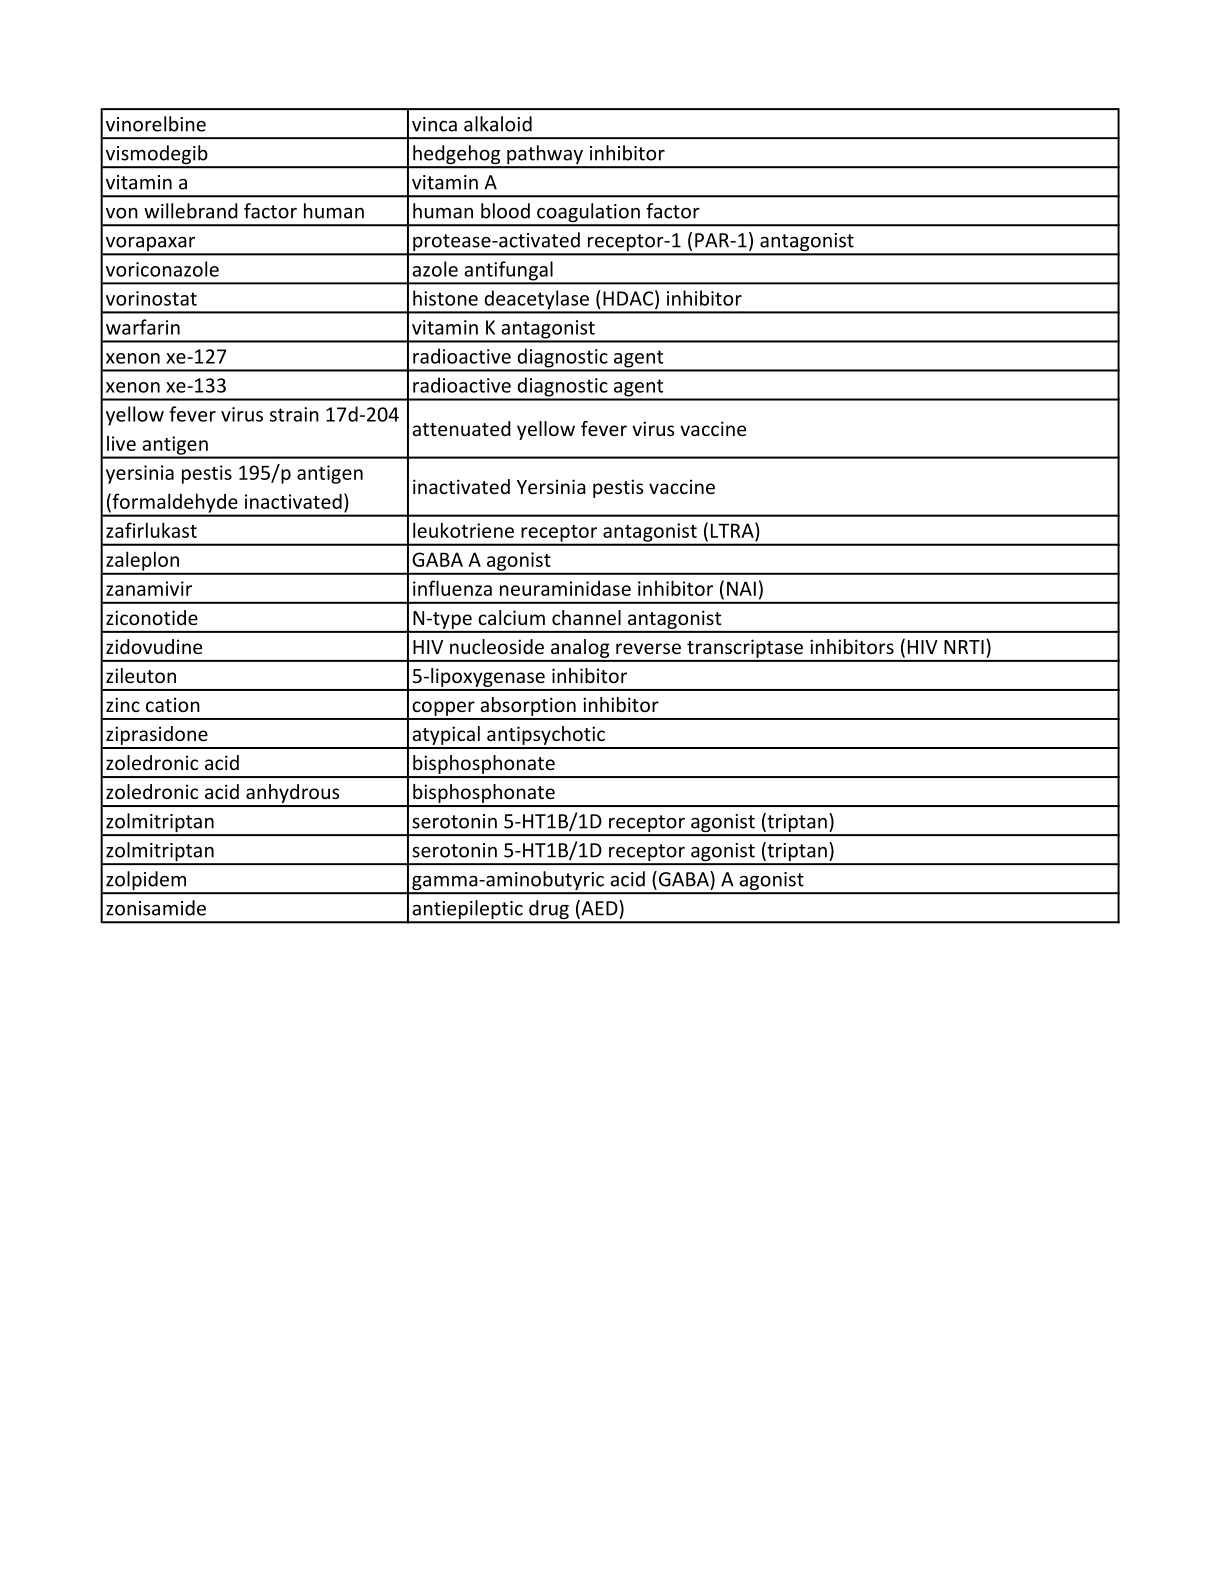full_lined: (99, 105, 1120, 924)
